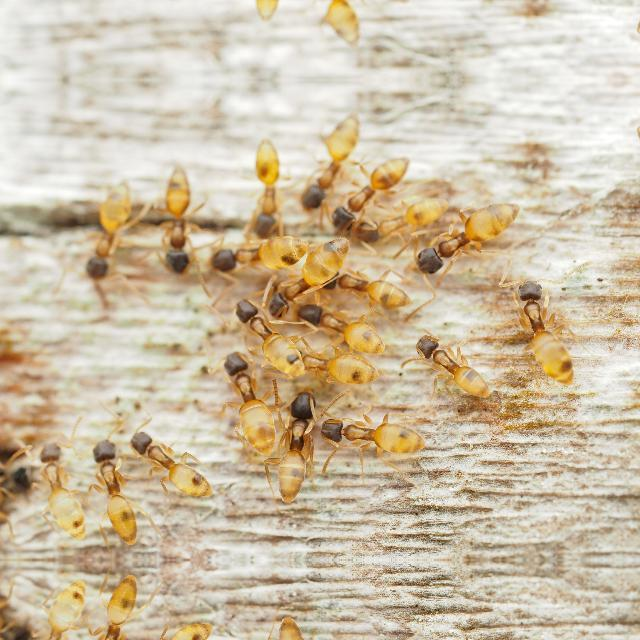Tapinoma: (69, 424, 167, 550), (496, 267, 594, 389), (401, 192, 527, 280), (58, 176, 150, 294), (143, 165, 219, 281), (288, 112, 370, 215), (259, 383, 329, 499), (308, 404, 434, 466), (404, 324, 502, 402), (231, 136, 301, 244), (220, 340, 284, 458), (262, 238, 352, 320), (69, 568, 167, 640), (132, 418, 222, 496), (227, 298, 306, 378), (301, 288, 387, 356), (310, 262, 418, 316), (34, 434, 86, 542), (334, 153, 416, 221), (354, 194, 450, 240), (208, 228, 292, 278), (297, 349, 385, 393), (288, 0, 370, 46), (33, 578, 86, 640), (231, 0, 301, 24), (132, 624, 222, 640)
